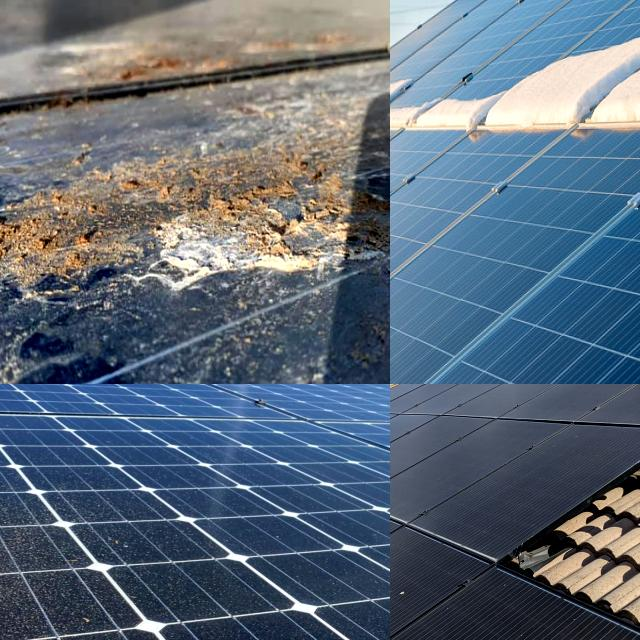bird: (119, 146, 357, 274), (0, 144, 91, 289)
dust: (0, 525, 64, 634)
panel: (505, 24, 640, 152), (390, 73, 481, 185), (390, 170, 472, 268), (390, 71, 481, 150), (390, 287, 440, 339)
